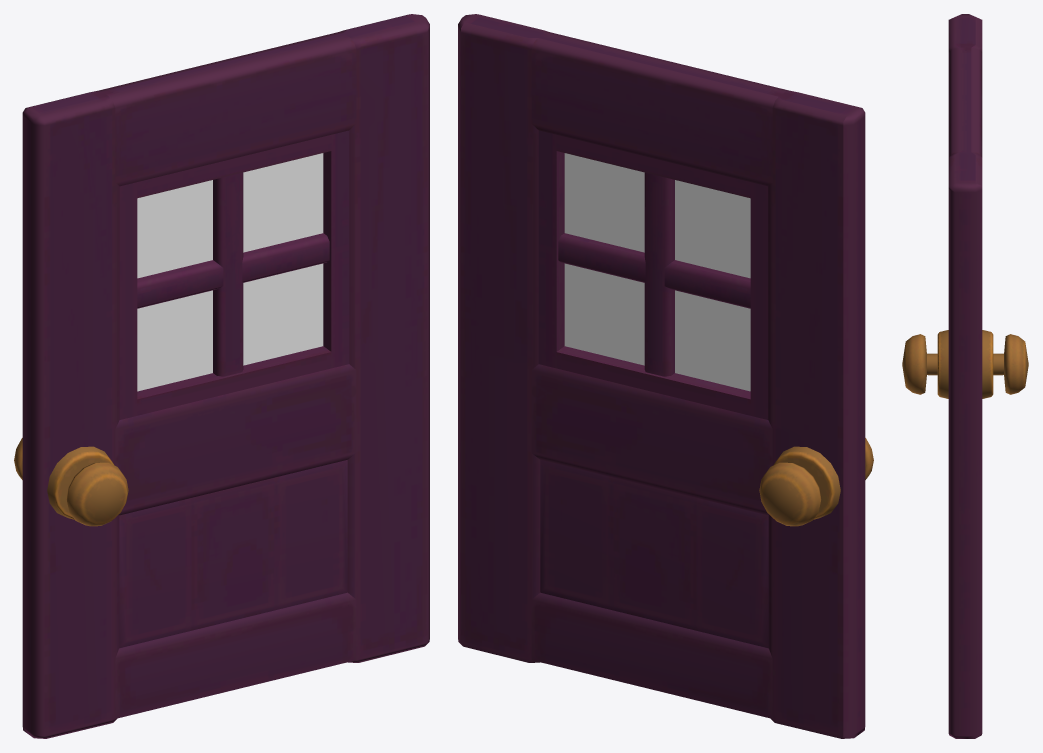
The model's file is purple_door_1.glb.
3 renders of one model, left to right at view 1: azimuth 30°, elevation 25°; view 2: azimuth 150°, elevation 25°; view 3: azimuth 270°, elevation 25°, orthographic. The views are drawn at different scales.
Visible parts, largest first — view 1: Frame_main1_1__mDoorS, grs__mWindowGlass; view 2: Frame_main1_1__mDoorS, grs__mWindowGlass; view 3: Frame_main1_1__mDoorS.
Part boxes in pixels (bbox=[...]): Frame_main1_1__mDoorS: bbox=[14, 14, 429, 738]; grs__mWindowGlass: bbox=[137, 153, 323, 391]; Frame_main1_1__mDoorS: bbox=[458, 14, 873, 738]; grs__mWindowGlass: bbox=[564, 153, 750, 391]; Frame_main1_1__mDoorS: bbox=[902, 14, 1028, 738].
Size of the model in its own units: 12 by 18 by 3.74.
2 materials, 1 textured.
